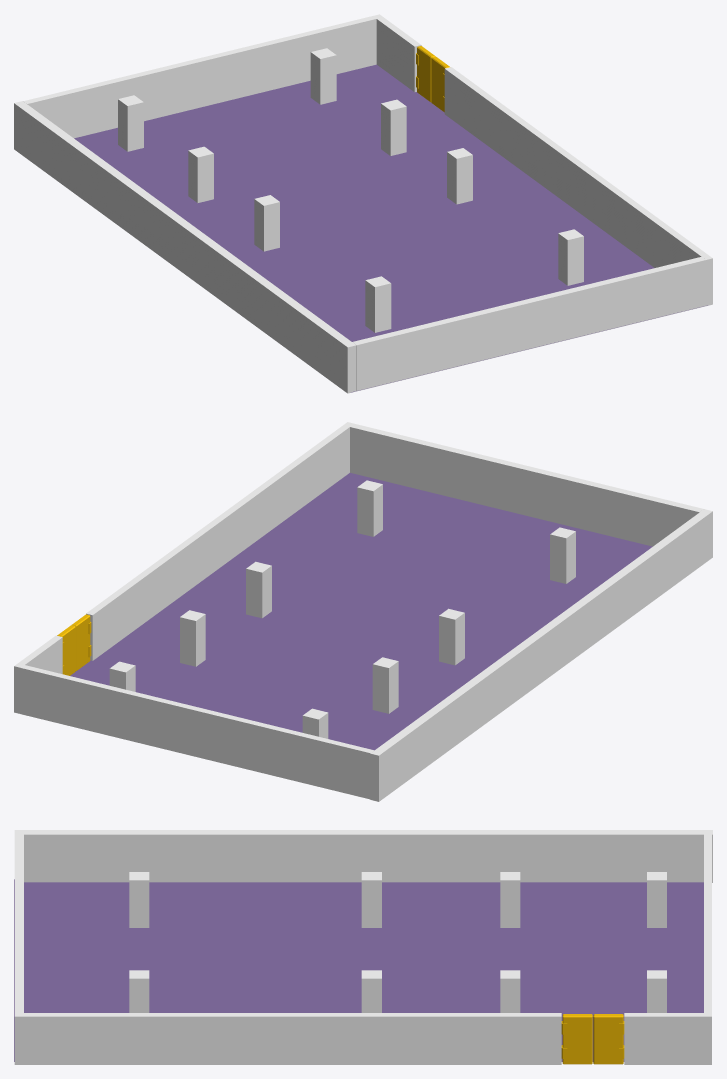
The model's file is maps_64.fbx.
3 renders of one model, top to bottom at view 1: azimuth 30°, elevation 25°; view 2: azimuth 150°, elevation 25°; view 3: azimuth 270°, elevation 25°, orthographic. The views are drawn at different scales.
Visible parts, largest first — view 1: wall_01_08_geo, wall_01_07_geo, wall_01_05_geo, wall_01_09_geo, wall_01_06_geo, wall_01_06_geo1, wall_01_06_geo7, wall_01_06_geo2, wall_01_06_geo5, wall_01_06_geo10, wall_01_06_geo9, wall_01_06_geo3 (+4 smaller); view 2: wall_01_08_geo, wall_01_07_geo, wall_01_09_geo, wall_01_05_geo, wall_01_06_geo, wall_01_06_geo9, wall_01_06_geo7, wall_01_06_geo3, wall_01_06_geo5, wall_01_06_geo8, wall_01_06_geo6, wall_01_06_geo1 (+4 smaller); view 3: wall_01_08_geo, wall_01_07_geo, wall_01_06_geo, wall_01_06_geo1, wall_01_05_geo, polySurface165, polySurface161, wall_01_09_geo, wall_01_06_geo7, wall_01_06_geo8, wall_01_06_geo9, wall_01_06_geo10 (+4 smaller).
Part boxes in pixels (bbox=[...]): wall_01_08_geo: bbox=[74, 64, 707, 392]; wall_01_07_geo: bbox=[14, 101, 356, 393]; wall_01_05_geo: bbox=[352, 257, 705, 391]; wall_01_09_geo: bbox=[23, 16, 376, 138]; wall_01_06_geo: bbox=[444, 67, 712, 306]; wall_01_06_geo1: bbox=[373, 14, 421, 92]; wall_01_06_geo7: bbox=[365, 276, 391, 332]; wall_01_06_geo2: bbox=[310, 48, 336, 104]; wall_01_06_geo5: bbox=[447, 148, 472, 204]; wall_01_06_geo10: bbox=[118, 95, 143, 151]; wall_01_06_geo9: bbox=[188, 146, 213, 202]; wall_01_06_geo3: bbox=[381, 99, 406, 155]; wall_01_08_geo: bbox=[70, 473, 652, 750]; wall_01_07_geo: bbox=[370, 509, 712, 801]; wall_01_09_geo: bbox=[20, 665, 373, 799]; wall_01_05_geo: bbox=[350, 423, 703, 546]; wall_01_06_geo: bbox=[86, 422, 353, 660]; wall_01_06_geo9: bbox=[372, 657, 398, 713]; wall_01_06_geo7: bbox=[550, 527, 575, 583]; wall_01_06_geo3: bbox=[180, 610, 205, 666]; wall_01_06_geo5: bbox=[246, 561, 271, 618]; wall_01_06_geo8: bbox=[439, 608, 464, 665]; wall_01_06_geo6: bbox=[357, 480, 382, 536]; wall_01_06_geo1: bbox=[14, 635, 62, 713]; wall_01_08_geo: bbox=[14, 879, 703, 1061]; wall_01_07_geo: bbox=[14, 830, 712, 882]; wall_01_06_geo: bbox=[14, 1013, 561, 1064]; wall_01_06_geo1: bbox=[624, 1013, 711, 1064]; wall_01_05_geo: bbox=[14, 834, 23, 1012]; polySurface165: bbox=[561, 1014, 592, 1064]; polySurface161: bbox=[593, 1014, 624, 1064]; wall_01_09_geo: bbox=[704, 834, 711, 1012]; wall_01_06_geo7: bbox=[129, 872, 149, 927]; wall_01_06_geo8: bbox=[361, 872, 381, 927]; wall_01_06_geo9: bbox=[500, 872, 520, 927]; wall_01_06_geo10: bbox=[647, 872, 666, 927].
Bounding box in the file's own units: 73.43 × 8.89 × 116.
Materials: 2 (2 with a texture image).
